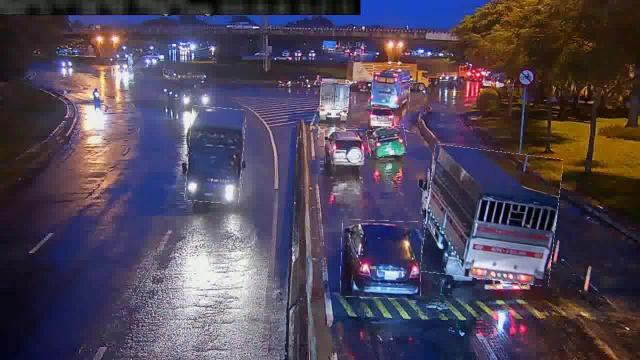Bus: (372, 66, 410, 108)
Car: (342, 221, 422, 299), (325, 130, 363, 164), (368, 126, 407, 156)
Truck: (424, 148, 560, 284), (187, 107, 245, 203)
